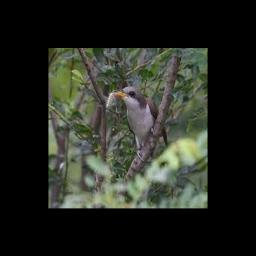Cuckoo: (114, 86, 167, 150)
